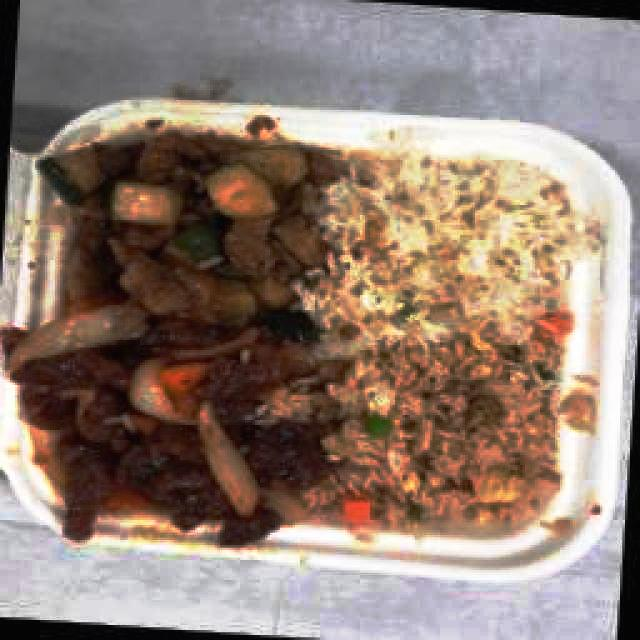Beijing Beef: (56, 302, 312, 527)
Fried Rice: (352, 342, 535, 519)
Kung Pao Chicken: (72, 128, 322, 298)
rice: (336, 170, 545, 325)
